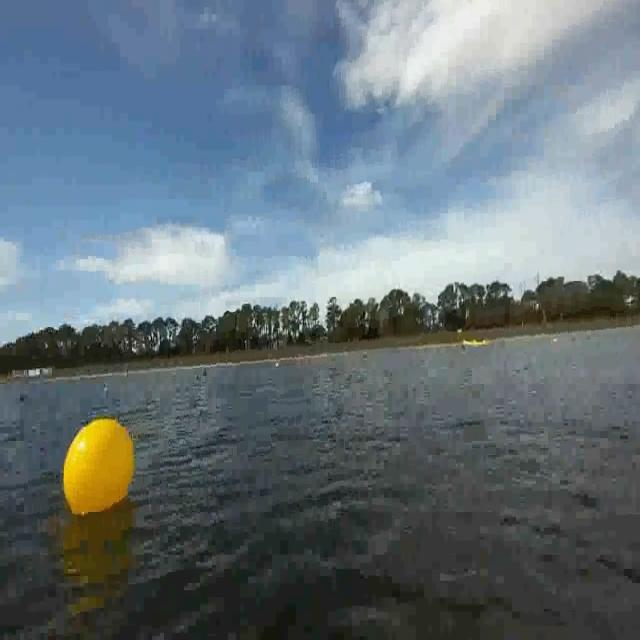yellow-buoy: (57, 412, 142, 520)
